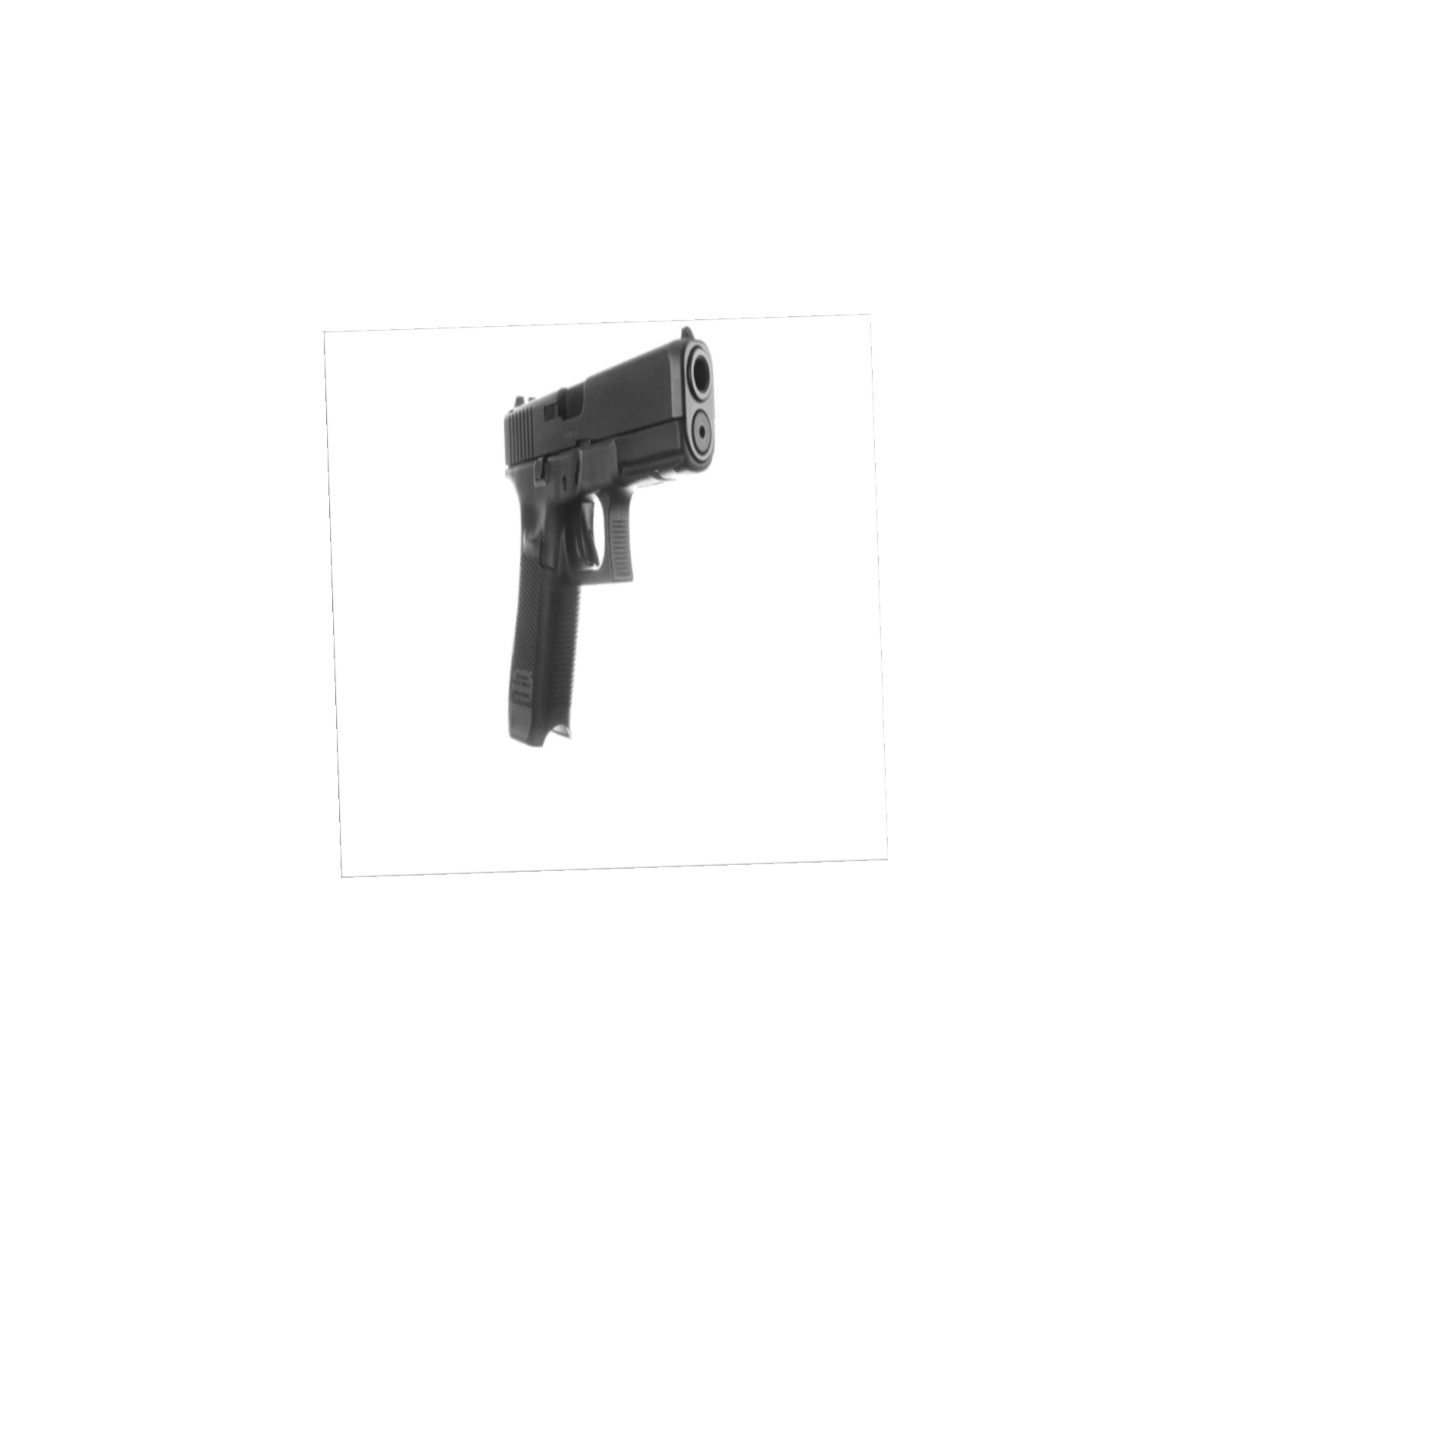gun: (502, 327, 720, 751)
